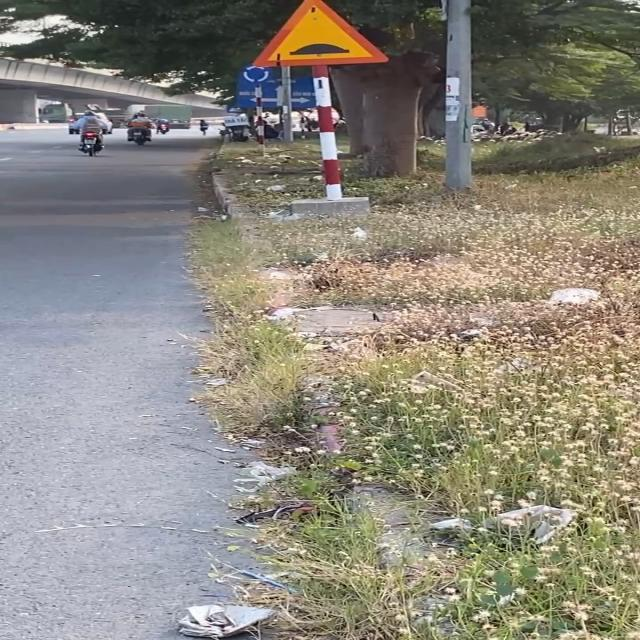221-duong-go-ghe: (255, 0, 390, 68)
303-noi-giao-nhau-chay-theo-vong-xuyen: (240, 64, 272, 85)
